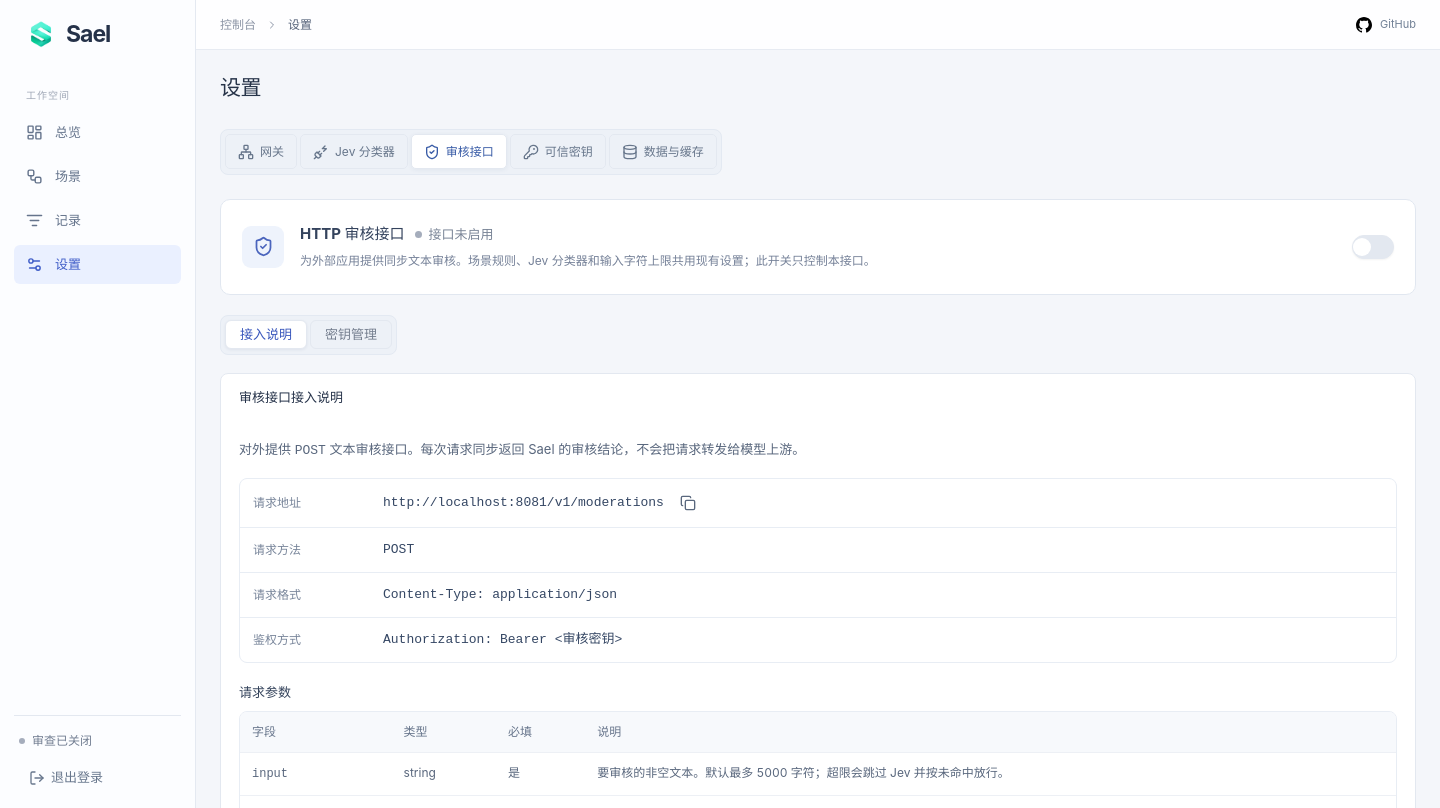
Test: opens the review integration from Settings and persists its independent switch
expect the link "设置" is shown: met, box [14, 245, 181, 284]
expect the tab "接入说明" is shown: met, box [225, 320, 307, 349]
What coordinates should you click on to do the following:
click the switch named "HTTP 审核接口"
I would click on:
 (1373, 246)
Its box is [1352, 234, 1394, 258].
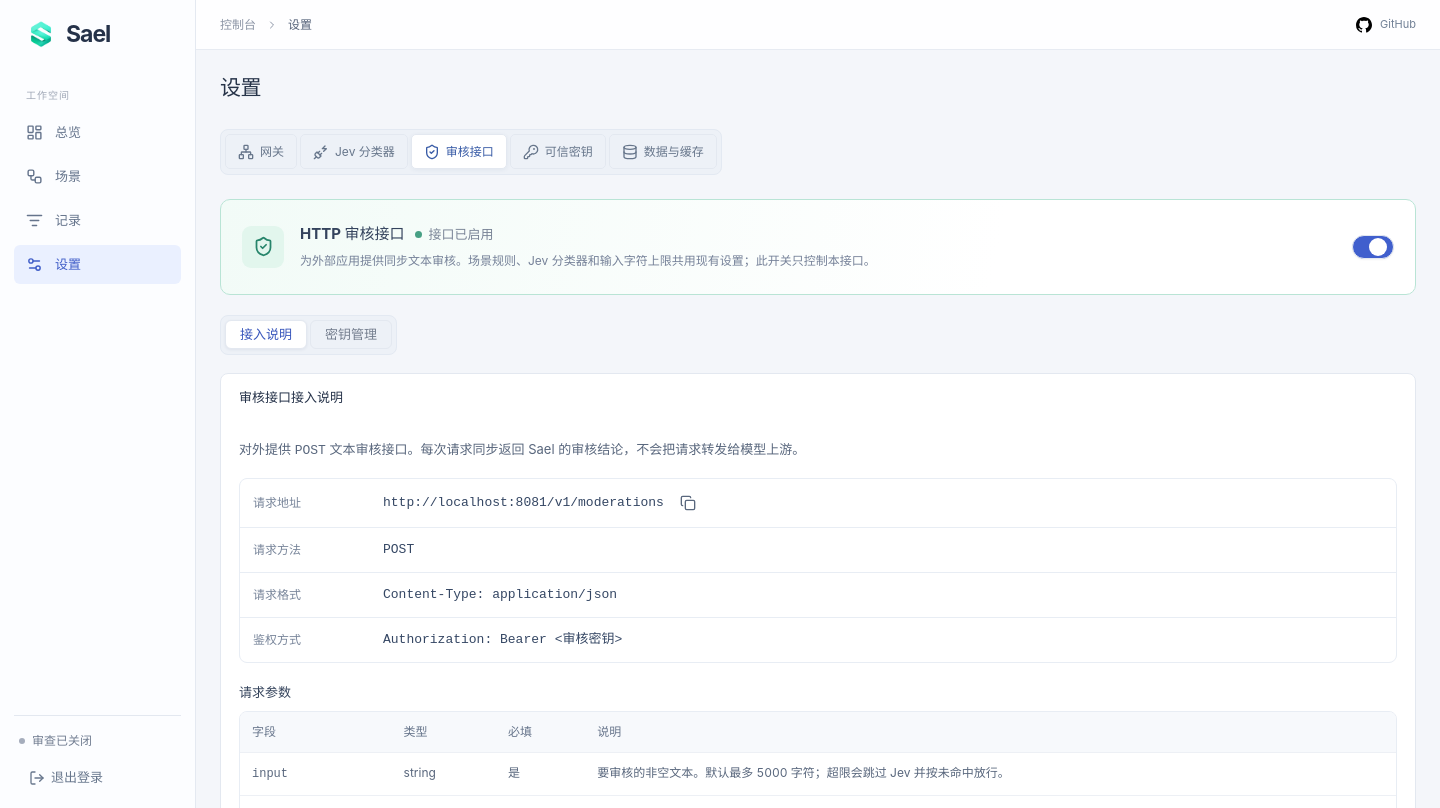
expect the text "接口已启用" is shown: met, box [414, 225, 494, 244]
What coordinates should you click on to do the following:
click the switch named "HTTP 审核接口"
I would click on:
 (1373, 246)
Its box is [1352, 234, 1394, 258].
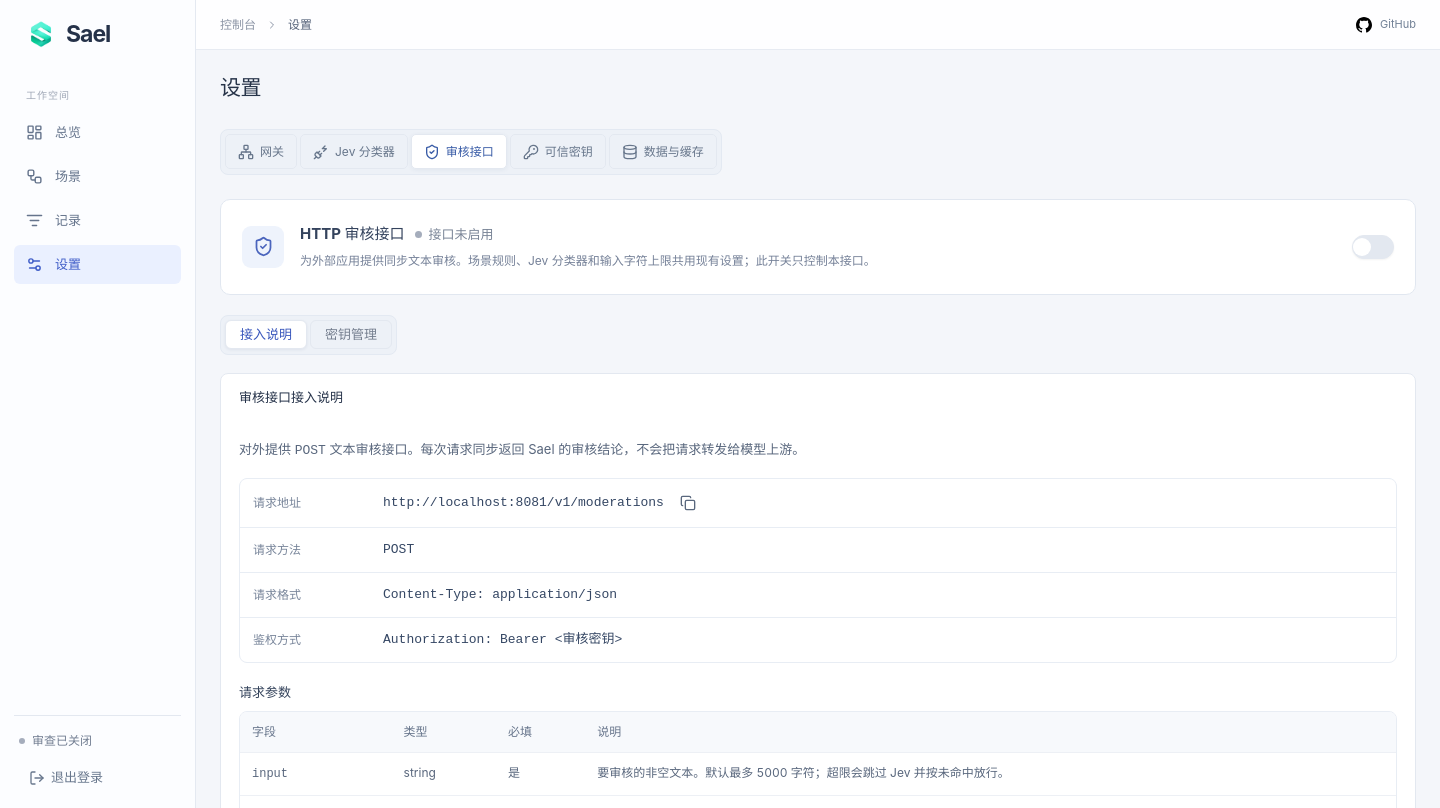
expect the text "接口未启用" is shown: met, box [414, 225, 494, 244]
